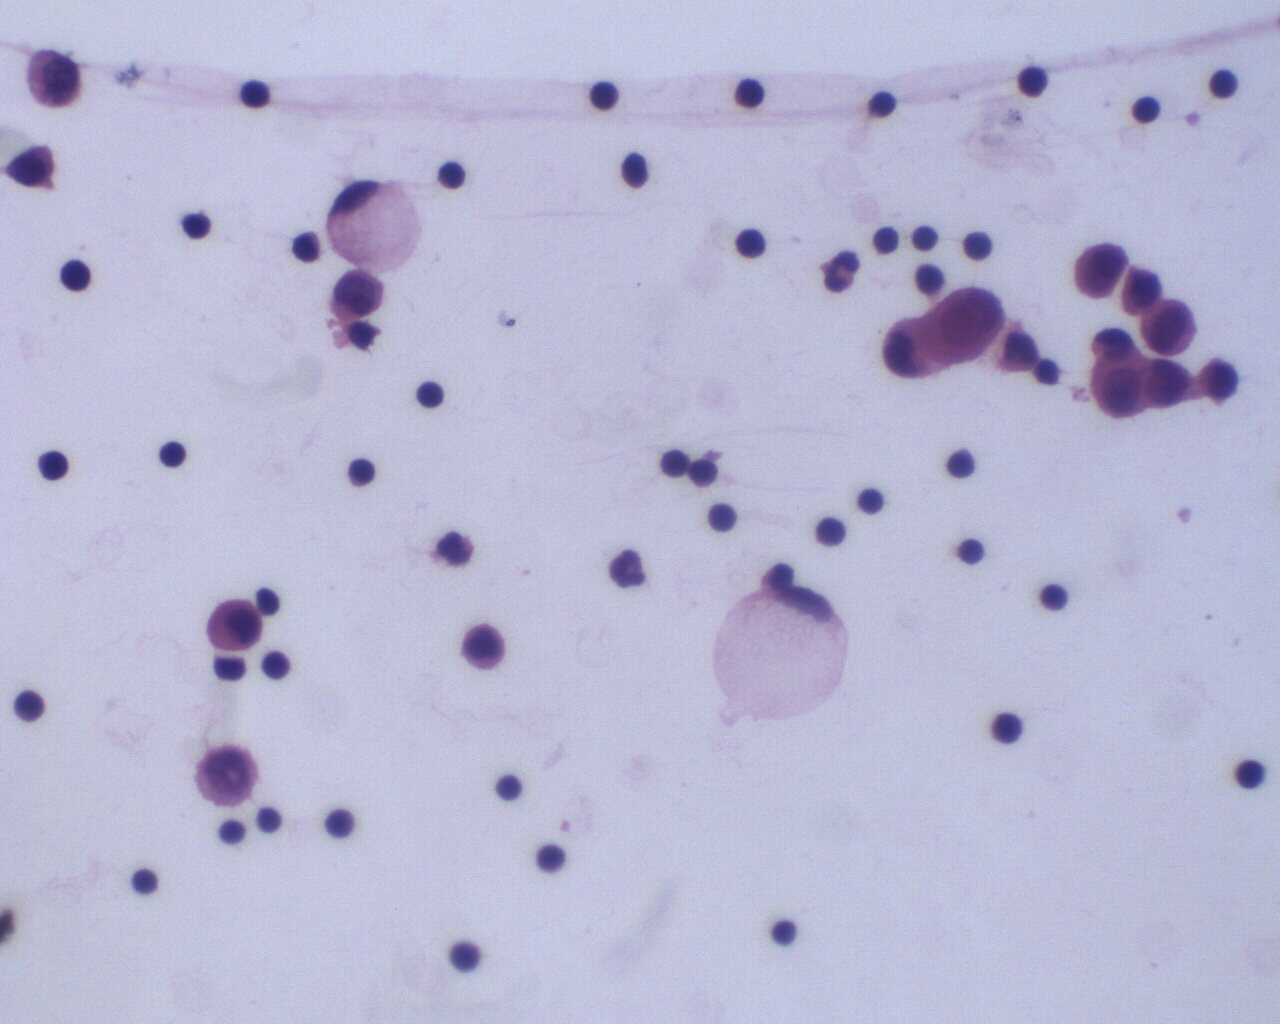ab: (926, 283, 1005, 374), (187, 740, 258, 810), (21, 46, 86, 113), (1088, 353, 1149, 418), (1138, 293, 1200, 356), (328, 267, 391, 328), (1070, 240, 1127, 302), (1141, 352, 1194, 414)
histo: (707, 584, 853, 731), (322, 174, 428, 275), (987, 708, 1031, 747)
lymph: (1014, 60, 1054, 102), (55, 256, 98, 296), (320, 805, 360, 845), (731, 76, 772, 116), (1203, 65, 1242, 106), (865, 84, 903, 125), (951, 533, 991, 572), (1033, 579, 1074, 616), (239, 74, 275, 116), (11, 685, 49, 724), (586, 78, 624, 117), (411, 377, 447, 414), (34, 449, 72, 485), (852, 483, 887, 518), (129, 866, 165, 900), (490, 770, 525, 804), (155, 439, 189, 472), (768, 917, 802, 950)
meso: (204, 595, 270, 657)
neutro: (814, 247, 864, 300), (604, 546, 650, 594)
